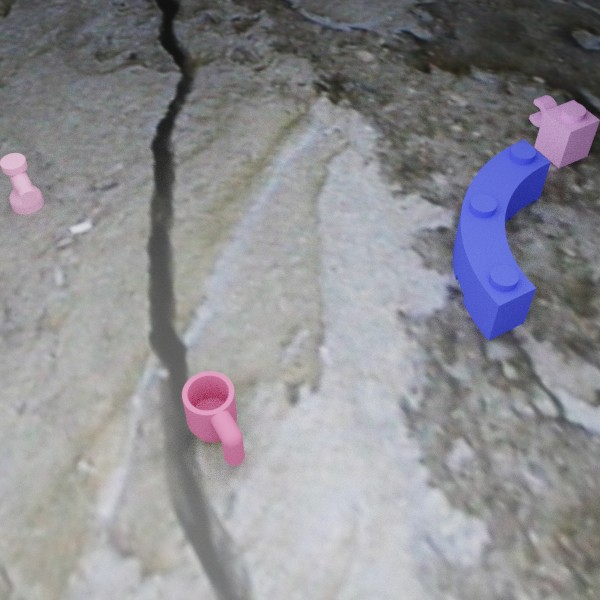lego: (452, 139, 550, 340), (182, 371, 244, 465), (529, 95, 600, 168), (0, 153, 43, 214)
